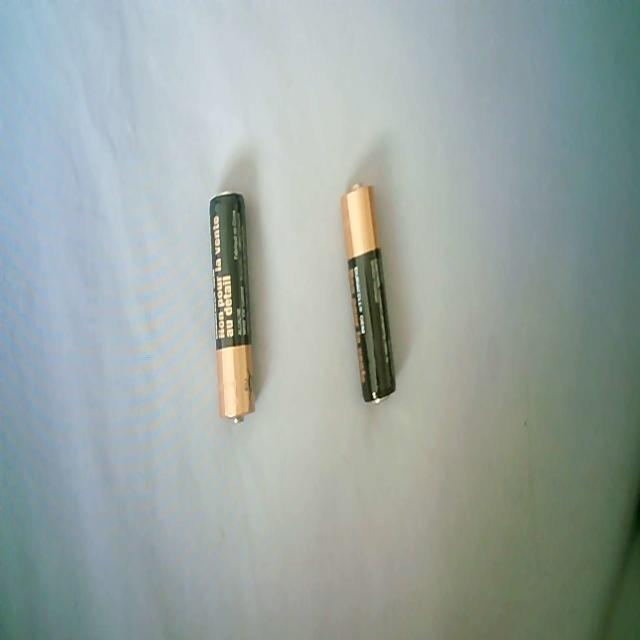AA: (340, 181, 396, 403), (208, 190, 255, 424)
